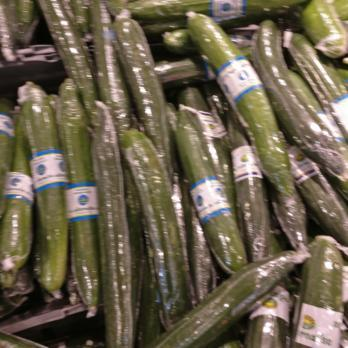Tomato: (0, 1, 348, 348)
